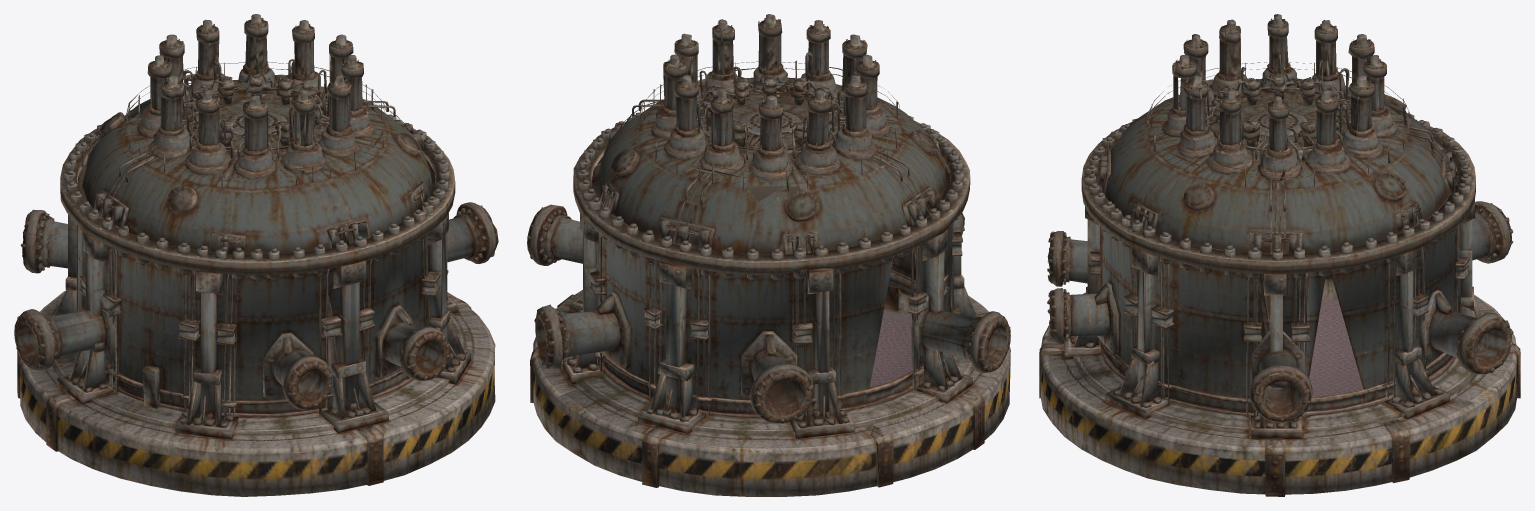
Rendered from reactor-vessel.glb.
3 renders of one model, left to right at view 1: azimuth 30°, elevation 25°; view 2: azimuth 150°, elevation 25°; view 3: azimuth 270°, elevation 25°, orthographic.
Parts seen in each view (by area): view 1: reactor-vessel; view 2: reactor-vessel; view 3: reactor-vessel.
Part boxes in pixels (x1,y1,x2,y2): reactor-vessel: (14, 14, 498, 496); reactor-vessel: (527, 14, 1010, 496); reactor-vessel: (1039, 14, 1520, 496).
Size of the model in its own units: 14 by 9.97 by 12.81.
1 material, 1 textured.
